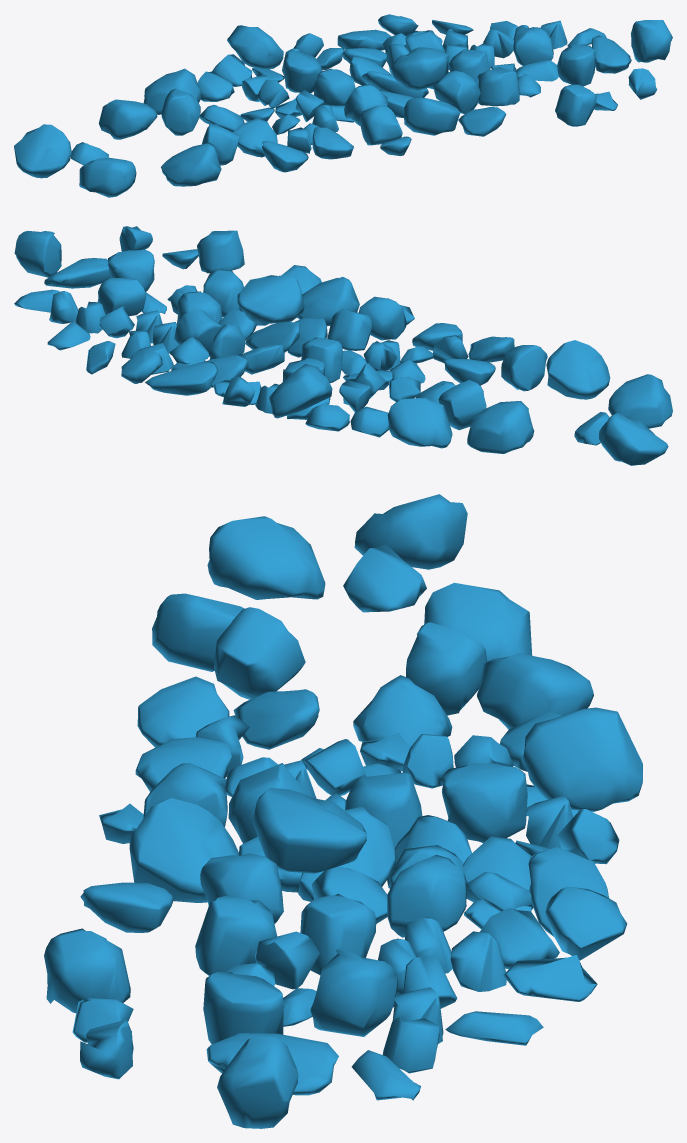
File: Scree_03_Lod0.fbx
3 views of the same model, one above another, from view 1: azimuth 30°, elevation 25°; view 2: azimuth 150°, elevation 25°; view 3: azimuth 270°, elevation 25° (orthographic). The views are drawn at different scales.
Parts seen in each view (by area): view 1: Scree_03_Lod0; view 2: Scree_03_Lod0; view 3: Scree_03_Lod0.
Part boxes in pixels (bbox=[...]): Scree_03_Lod0: bbox=[14, 14, 672, 197]; Scree_03_Lod0: bbox=[14, 226, 672, 465]; Scree_03_Lod0: bbox=[44, 494, 642, 1128].
Bounding box in the file's own units: 2268 × 196 × 961.
